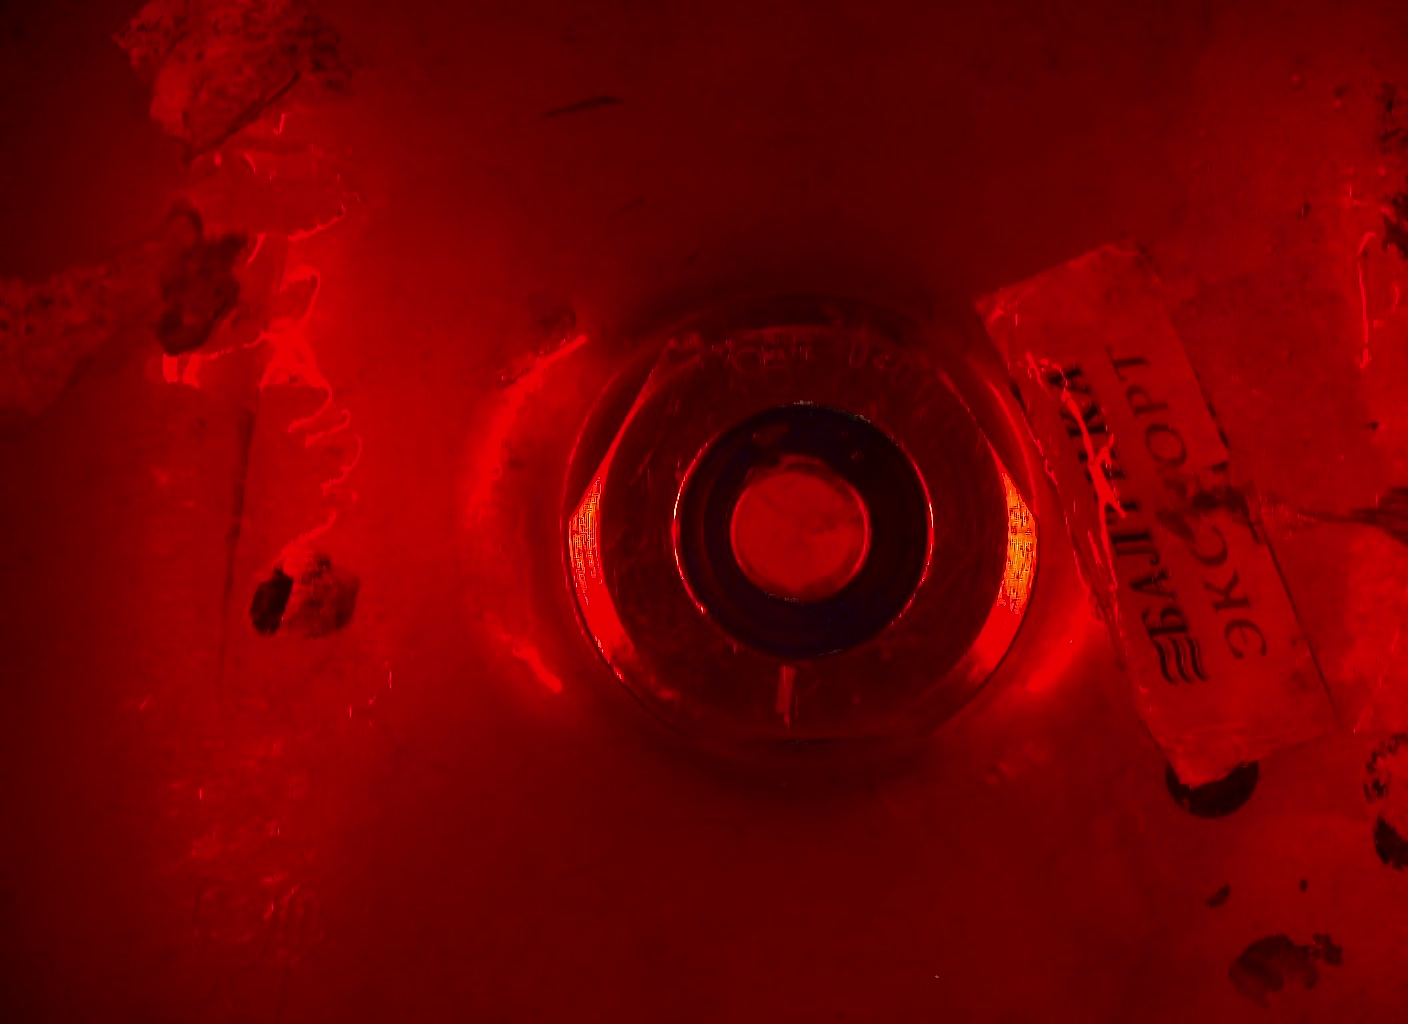pena: (731, 415, 883, 487)
